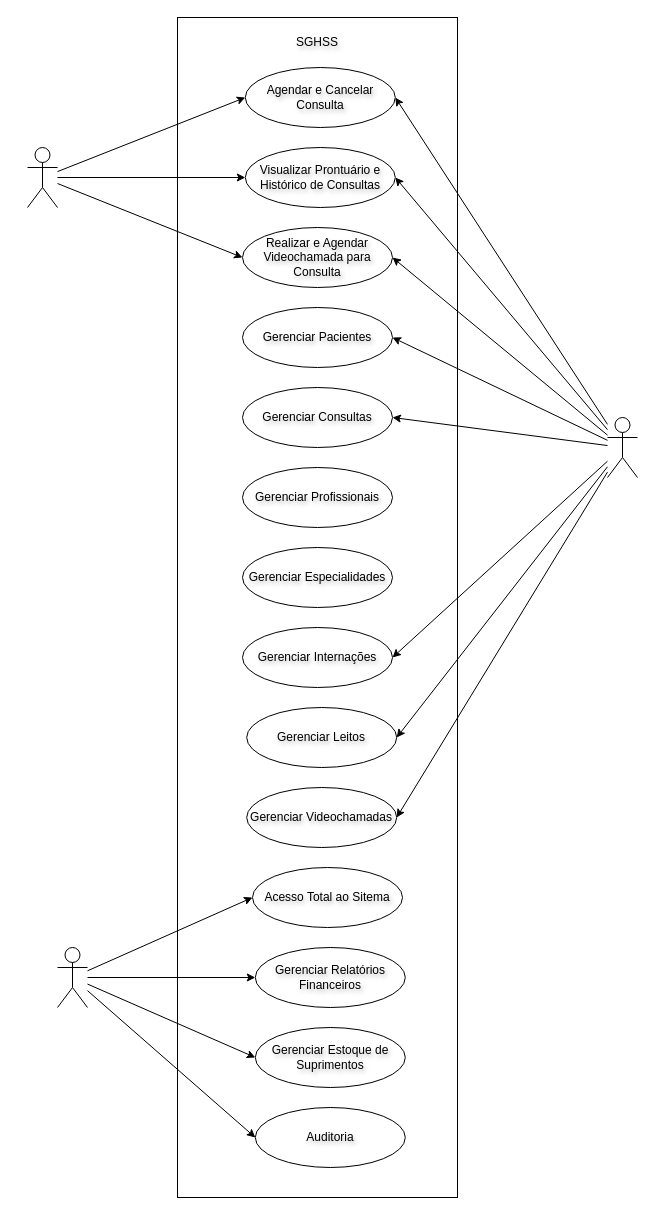
The diagram is 670 pixels wide and 1215 high, and some of its shapes have lost their labels. Each missing label, with the box of its shape:
Administrador: (56, 946, 88, 1008)
Paciente/ Usuário: (26, 146, 58, 208)
Profissional: (606, 416, 638, 478)
